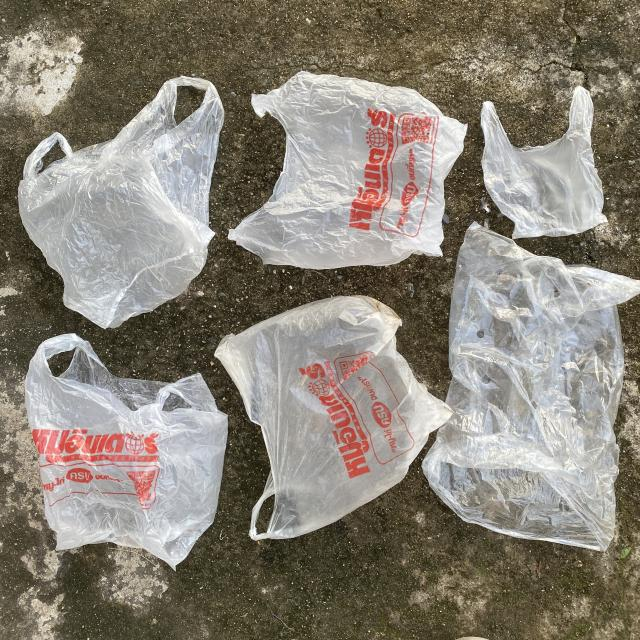Single-layer Plastic: (422, 224, 640, 550), (215, 296, 451, 540), (19, 76, 224, 329), (25, 334, 228, 568), (229, 71, 466, 269), (481, 86, 608, 239)
